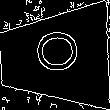O_W: (29, 35, 80, 79)
